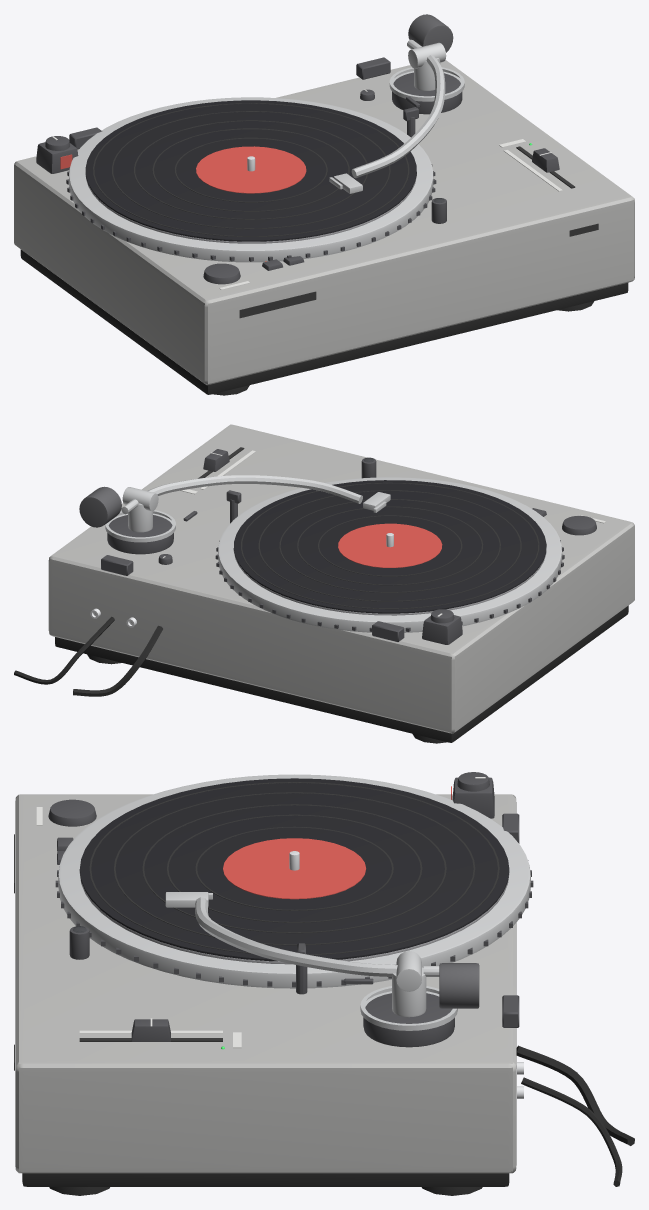
File: electronics_turntable.fbx
3 views of the same model, one above another, from view 1: azimuth 30°, elevation 25°; view 2: azimuth 150°, elevation 25°; view 3: azimuth 270°, elevation 25° (orthographic). The views are drawn at different scales.
Parts seen in each view (by area): view 1: electronics_turntable; view 2: electronics_turntable; view 3: electronics_turntable.
Part boxes in pixels (x1,y1,x2,y2): electronics_turntable: [14, 14, 634, 395]; electronics_turntable: [14, 424, 634, 743]; electronics_turntable: [14, 772, 634, 1195].
Bounding box in the file's own units: 0.4568 × 0.171 × 0.4335.
